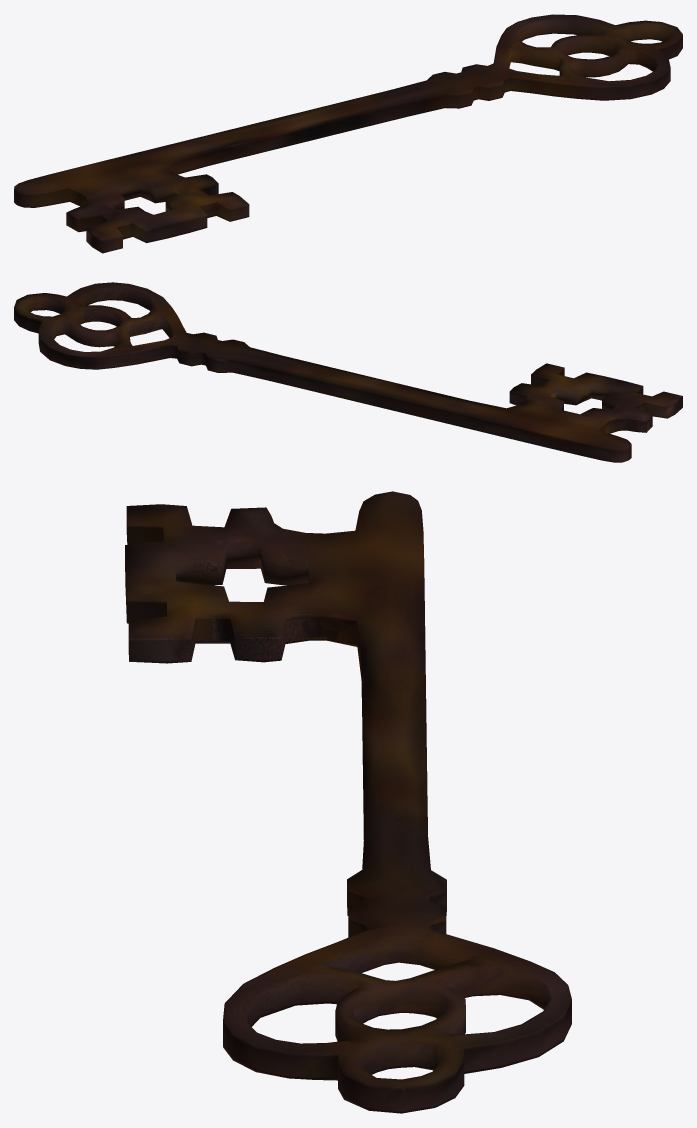
File: Key.fbx
3 renders of one model, top to bottom at view 1: azimuth 30°, elevation 25°; view 2: azimuth 150°, elevation 25°; view 3: azimuth 270°, elevation 25°, orthographic. The views are drawn at different scales.
Parts seen in each view (by area): view 1: Fläche; view 2: Fläche; view 3: Fläche.
Boxes of the visible parts, box(x1,y1,x2,y2) form: Fläche: box(14, 14, 682, 253); Fläche: box(14, 282, 682, 462); Fläche: box(125, 491, 571, 1113).
Bounding box in the file's own units: 2797 × 72.73 × 886.
Materials: 1 (1 with a texture image).
